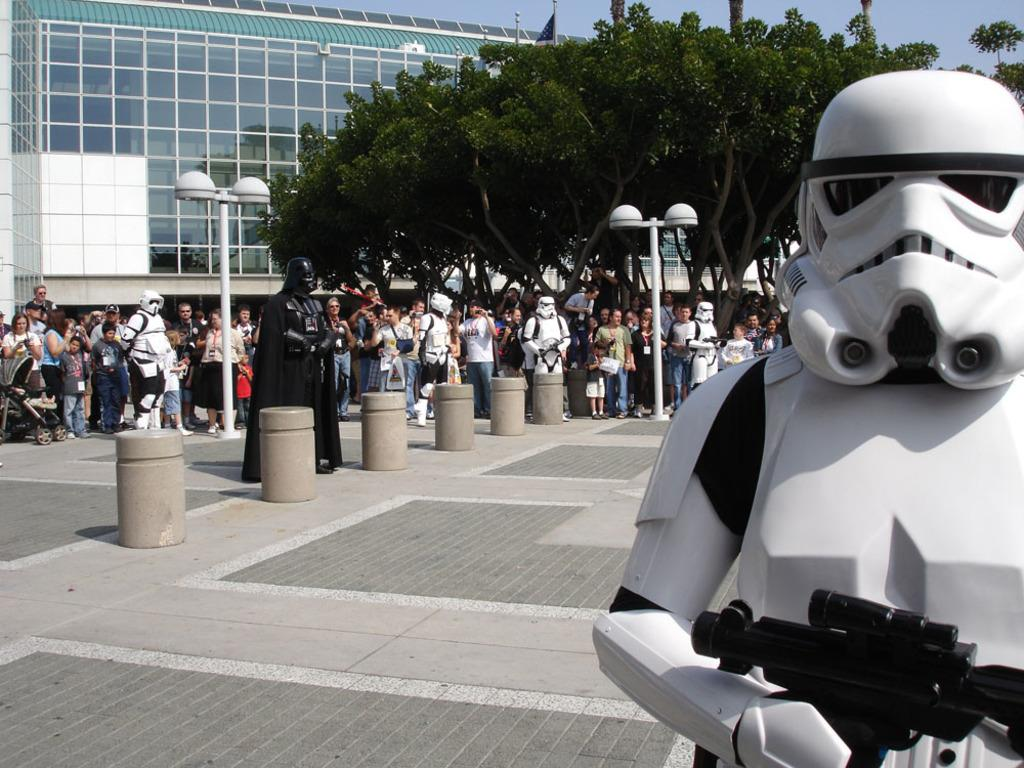Rifle: (690, 586, 1023, 767)
